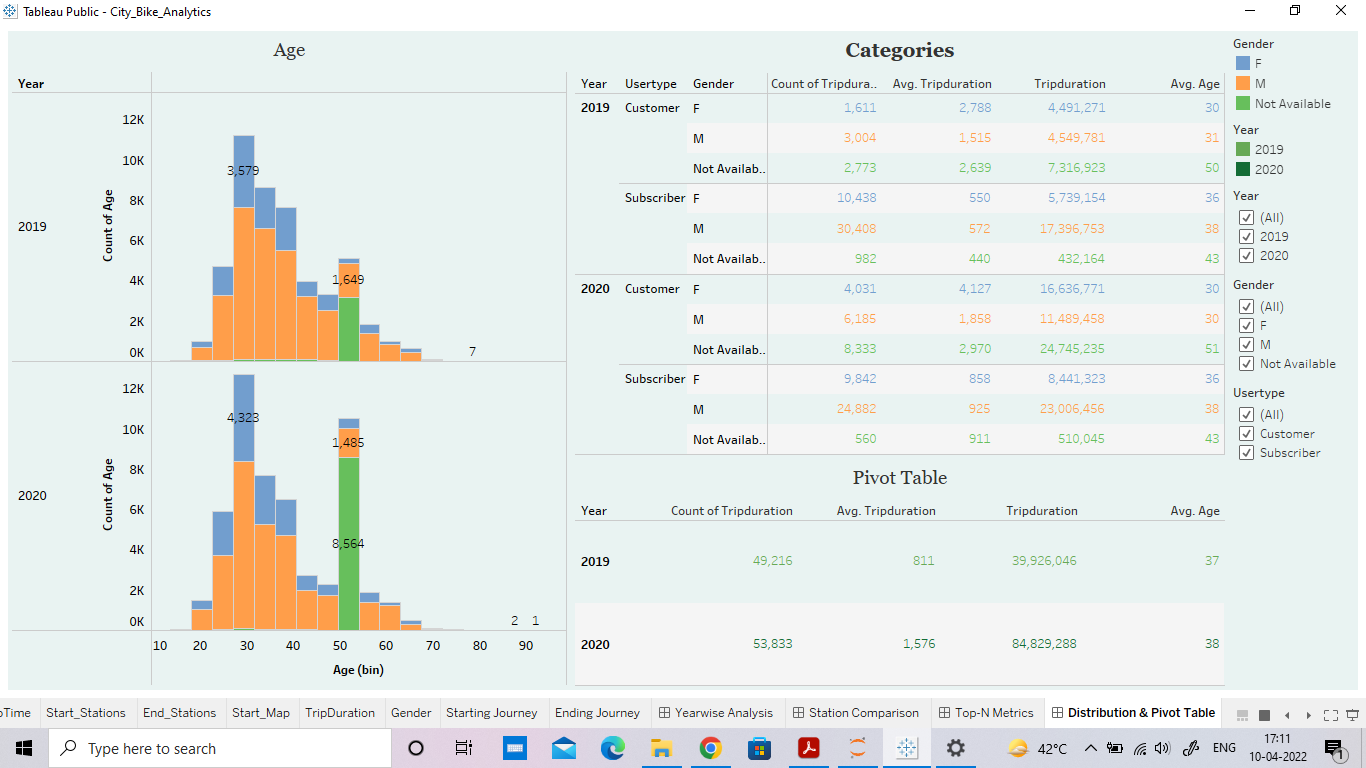

The dashboard page shown, as its layout file describes it:
{"tool":"tableau","page":{"name":"Distribution & Pivot Table","canvas":[1000,1000],"units":"permille","ordinal":0},"visuals":[{"type":"worksheet","box":[0,0,1000,1000]},{"type":"worksheet","param":"horz","box":[7,13.5,986.1,973]},{"type":"worksheet","box":[7,13.5,873.8,973]},{"type":"worksheet","title":"Age","mark":"Automatic","rows":["year","age"],"cols":["Age (bin)"],"box":[7,13.5,402.9,973]},{"type":"worksheet","title":"Categories","mark":"Automatic","rows":["year","usertype","gender"],"box":[409.9,13.5,470.9,632.1]},{"type":"worksheet","param":"vert","box":[880.8,13.5,112.3,973]},{"type":"worksheet","title":"Categories","mark":"Automatic","rows":["year","usertype","gender"],"param":"[federated.0axtsh30ud2oz713ihg7k1uitwuh].[none:gender:nk]","box":[880.8,13.5,112.3,145.3]},{"type":"worksheet","title":"Pivot Table","mark":"Automatic","rows":["year"],"param":"[federated.0axtsh30ud2oz713ihg7k1uitwuh].[none:year:nk]","box":[880.8,158.8,112.3,111.5]},{"type":"worksheet","title":"Categories","mark":"Automatic","rows":["year","usertype","gender"],"param":"[federated.0axtsh30ud2oz713ihg7k1uitwuh].[none:year:nk]","box":[880.8,270.3,112.3,150.3]},{"type":"worksheet","title":"Categories","mark":"Automatic","rows":["year","usertype","gender"],"param":"[federated.0axtsh30ud2oz713ihg7k1uitwuh].[none:gender:nk]","box":[880.8,420.6,112.3,182.4]},{"type":"worksheet","title":"Categories","mark":"Automatic","rows":["year","usertype","gender"],"param":"[federated.0axtsh30ud2oz713ihg7k1uitwuh].[none:usertype:nk]","box":[880.8,603,112.3,150.3]},{"type":"worksheet","title":"Pivot Table","mark":"Automatic","rows":["year"],"box":[409.9,645.6,470.9,340.9]}]}

Visuals, with their boxes on the dashboard's canvas, which has no fixed pixel size, in thousandths of its width and height (x1, y1, x2, y2). These are canvas units, not pixel positions in the 1366x768 screenshot, which may show the page scaled, cropped or inside an application window:
worksheet: 0, 0, 1000, 1000
worksheet: 7, 14, 993, 986
worksheet: 7, 14, 881, 986
"Age" worksheet: 7, 14, 410, 986
"Categories" worksheet: 410, 14, 881, 646
worksheet: 881, 14, 993, 986
"Categories" worksheet: 881, 14, 993, 159
"Pivot Table" worksheet: 881, 159, 993, 270
"Categories" worksheet: 881, 270, 993, 421
"Categories" worksheet: 881, 421, 993, 603
"Categories" worksheet: 881, 603, 993, 753
"Pivot Table" worksheet: 410, 646, 881, 986
